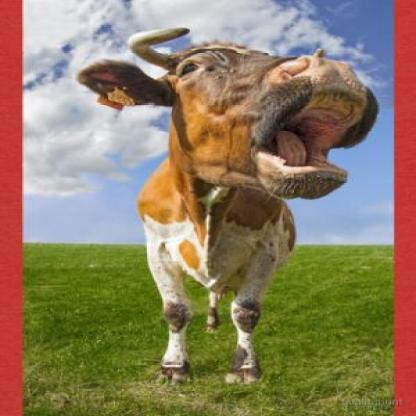lower: (298, 174, 326, 195)
mouth: (249, 53, 379, 198)
upper: (318, 60, 353, 84)
